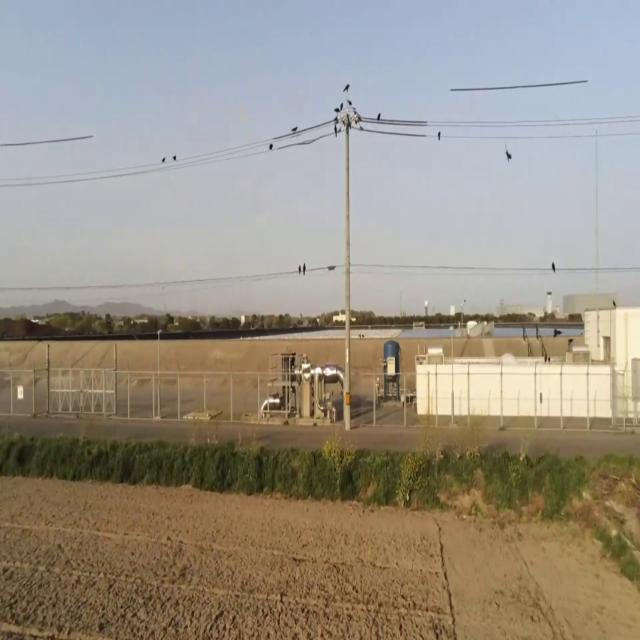bird: (334, 108, 339, 139), (505, 143, 512, 165), (543, 344, 548, 364), (268, 137, 273, 155), (302, 260, 306, 276), (162, 154, 166, 168), (172, 152, 176, 165), (552, 259, 555, 276), (438, 128, 441, 144)
